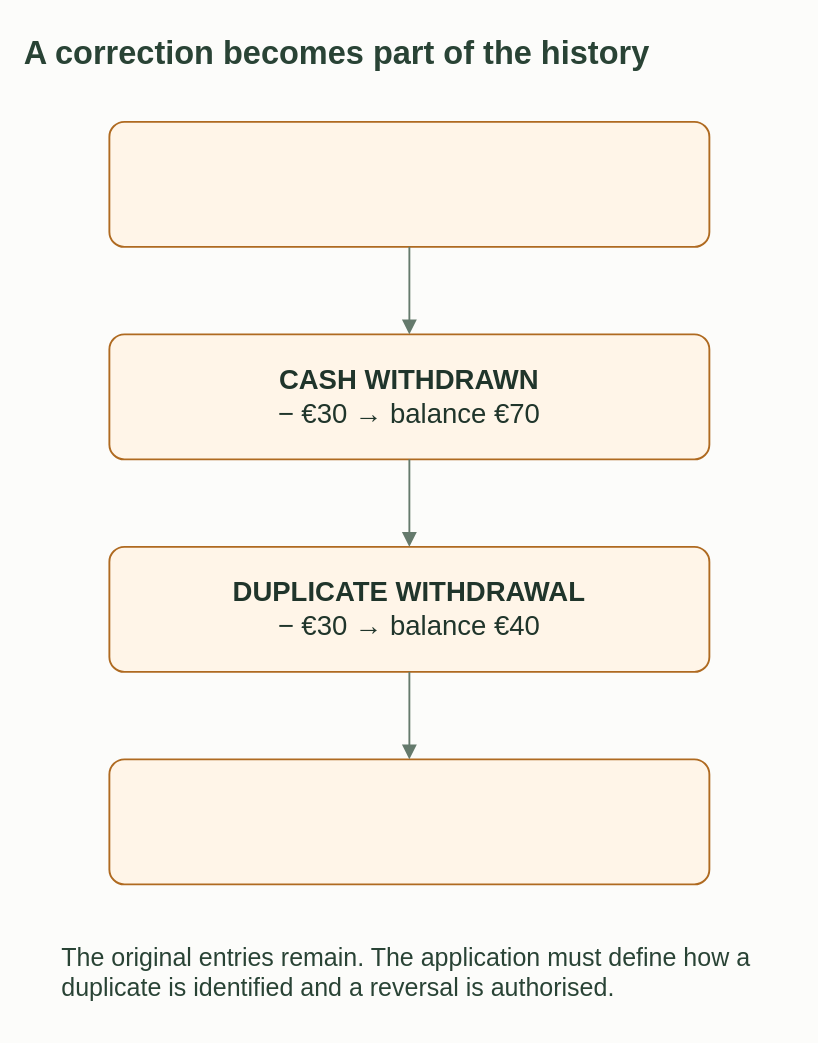
Image size: 818x1043. Some labels were removed from this diagram. Each missing label, with the centre of its shape:
"ACCOUNT OPENED + €100 → balance €100" goes at point (409, 183).
"DUPLICATE REVERSED + €30 → balance €70" goes at point (409, 821).
